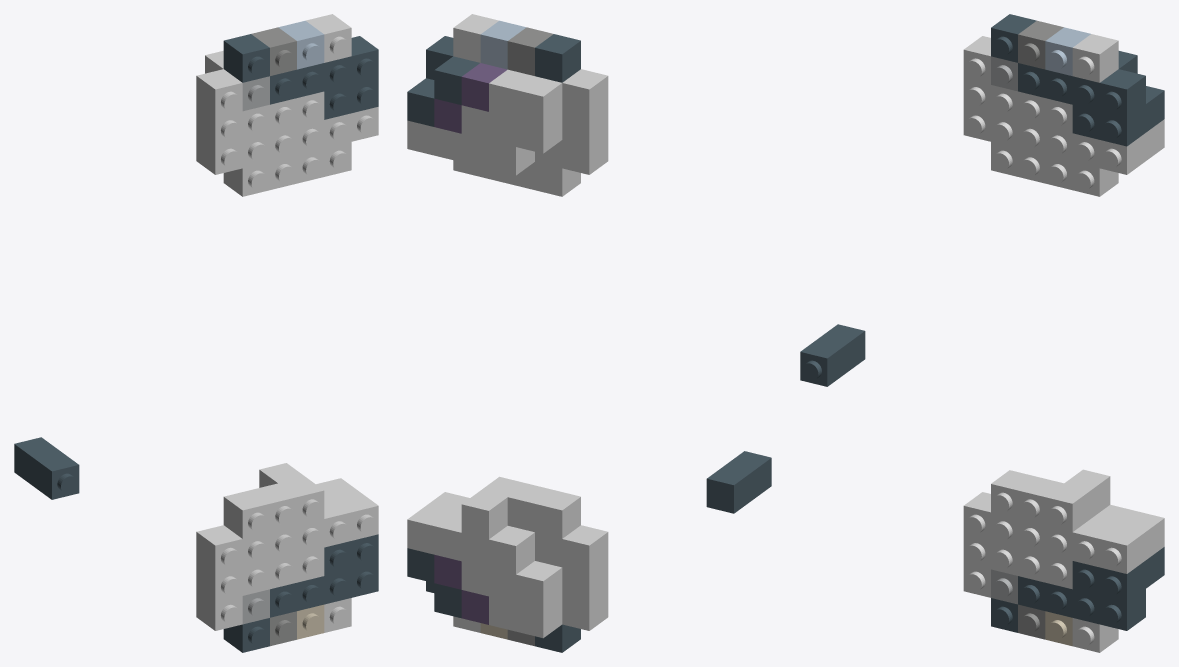
File: full.glb
3 renders of one model, left to right at view 1: azimuth 30°, elevation 25°; view 2: azimuth 150°, elevation 25°; view 3: azimuth 330°, elevation 25°, orthographic.
Parts seen in each view (by area): view 1: world; view 2: world; view 3: world.
Boxes of the visible parts, bbox=[...] form: world: bbox=[14, 14, 378, 652]; world: bbox=[407, 14, 771, 652]; world: bbox=[800, 14, 1164, 652].
Bounding box in the file's own units: 96 × 168 × 21.
